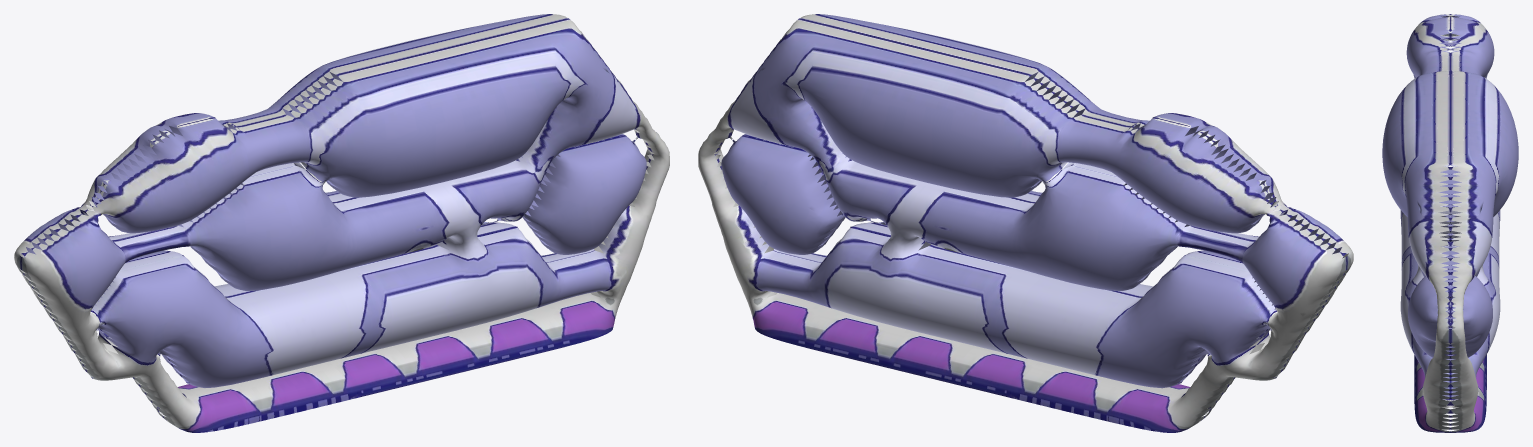
Rendered from main_deck.glb.
The picture shows the model from 3 angles, left to right: view 1: azimuth 30°, elevation 25°; view 2: azimuth 150°, elevation 25°; view 3: azimuth 270°, elevation 25°; orthographic projection. The views are drawn at different scales.
Parts seen in each view (by area): view 1: main_deck; view 2: main_deck; view 3: main_deck.
Part boxes in pixels (<box>): main_deck: <box>14,14,669,432</box>; main_deck: <box>698,14,1353,432</box>; main_deck: <box>1382,14,1518,432</box>.
Bounding box in the file's own units: 0.989 × 0.4489 × 0.2178.
Materials: 1 (1 with a texture image).
